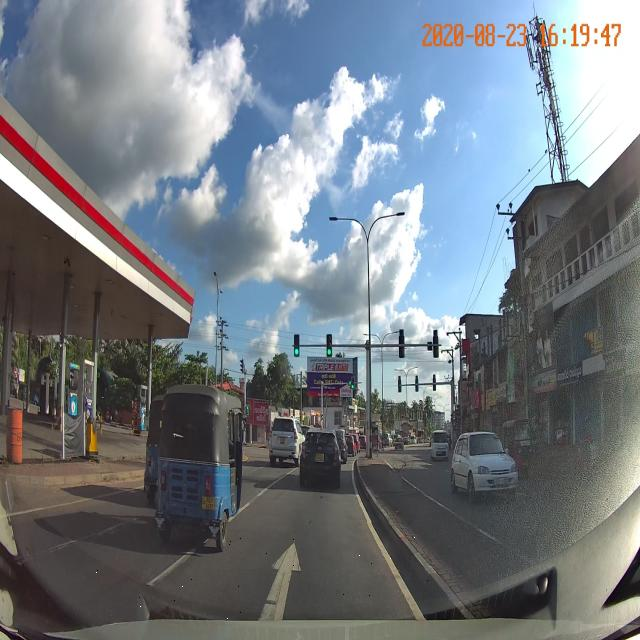forward: (96, 544, 421, 621), (197, 523, 430, 622)
